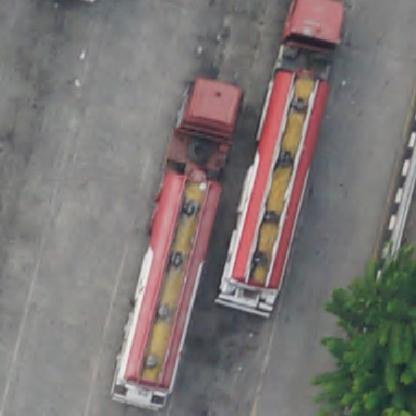truck: (111, 76, 244, 409), (215, 0, 349, 319)
